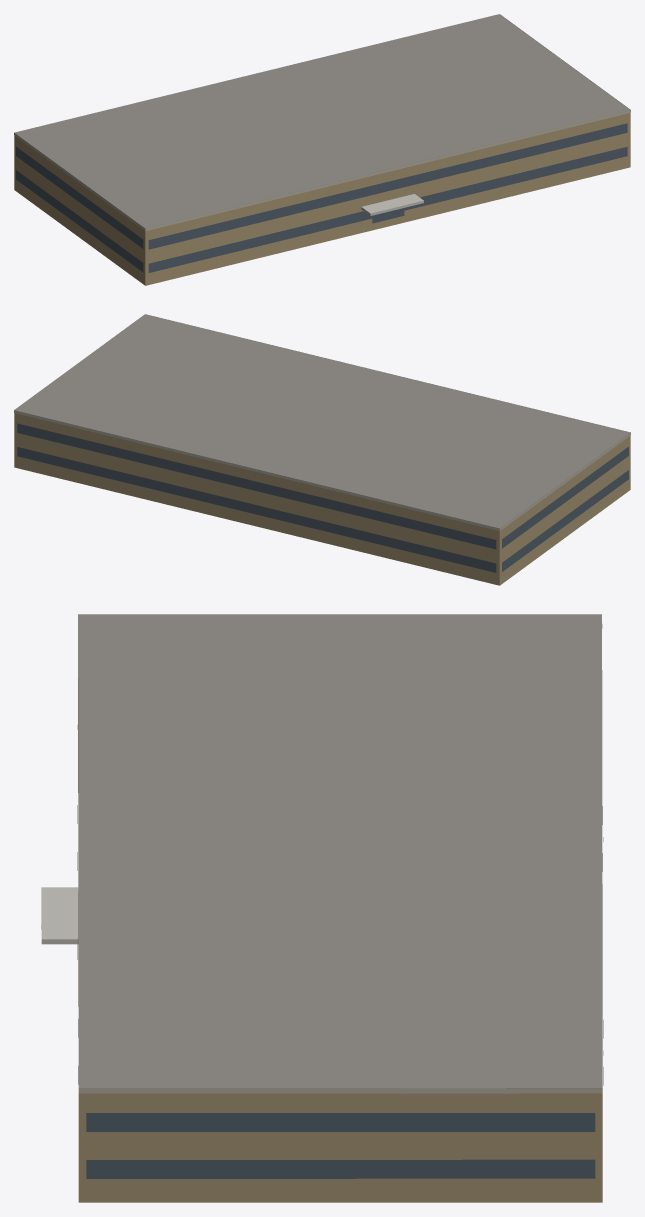
Rendered from continental-trailways-terminal.glb.
3 views of the same model, one above another, from view 1: azimuth 30°, elevation 25°; view 2: azimuth 150°, elevation 25°; view 3: azimuth 270°, elevation 25° (orthographic). The views are drawn at different scales.
Visible parts, largest first — view 1: continental_trailways_terminal; view 2: continental_trailways_terminal; view 3: continental_trailways_terminal.
Boxes of the visible parts, x1,y1,x2,y2 form: continental_trailways_terminal: [14, 14, 630, 285]; continental_trailways_terminal: [14, 314, 630, 585]; continental_trailways_terminal: [41, 614, 603, 1202].
Size of the model in its own units: 91.12 by 10.26 by 45.63.
